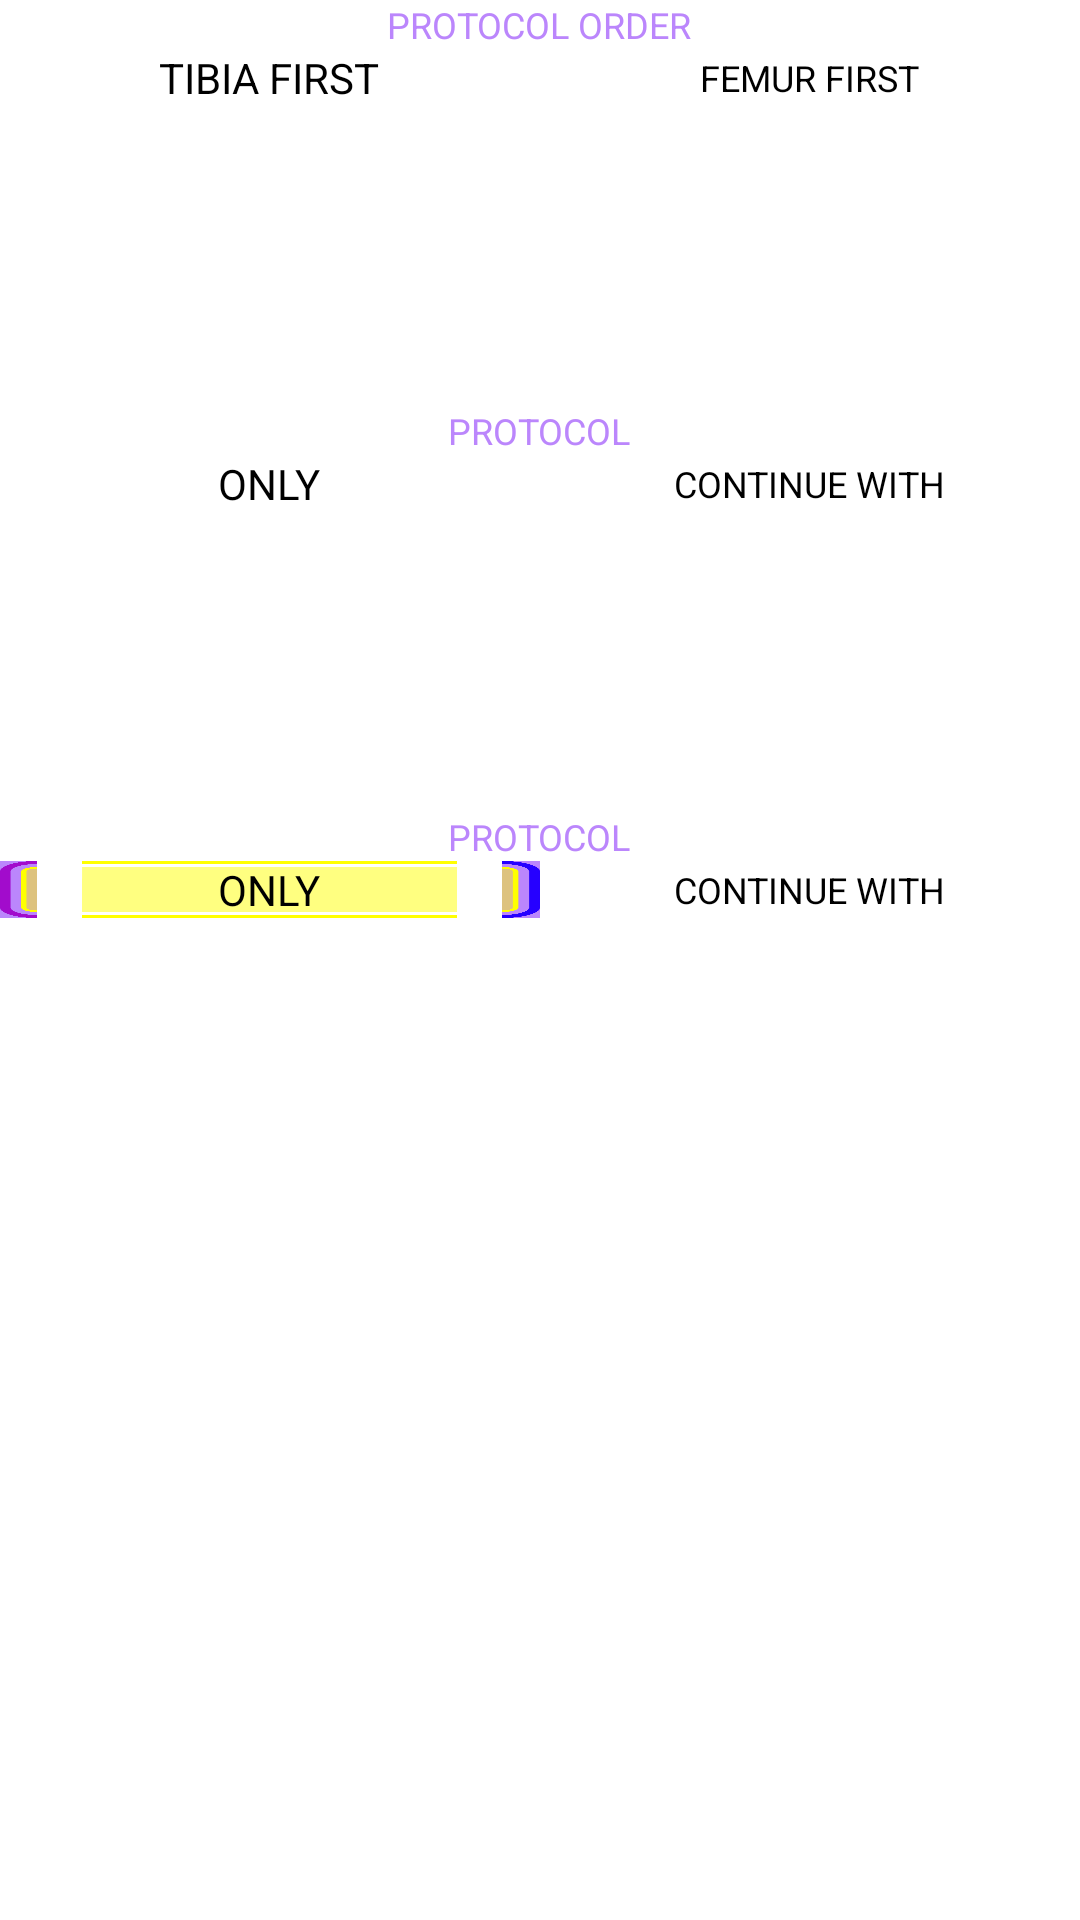

Screen size 1080x1920. Icon name, then its box in pixels as (x1, y1, x2, y2):
left: (0, 861, 37, 918)
right: (502, 861, 540, 918)
